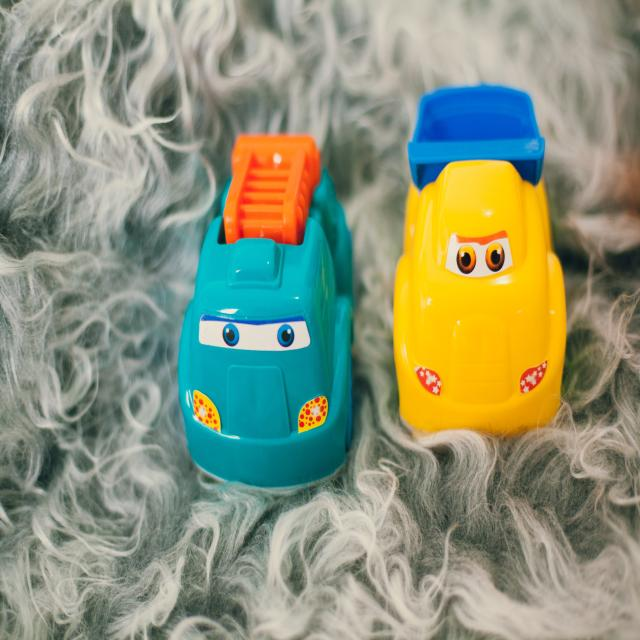Plastic: (137, 103, 376, 510), (386, 70, 576, 445)
